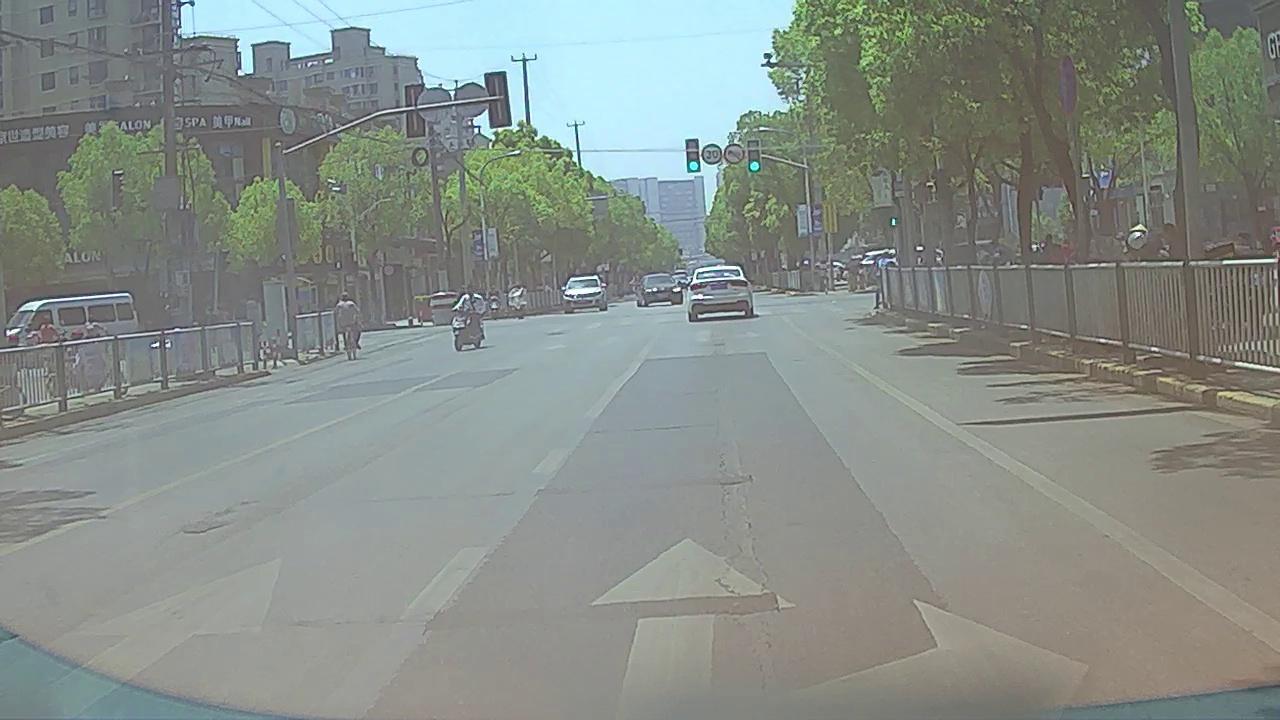traffic_light: (686, 140, 699, 171), (749, 141, 760, 172)
